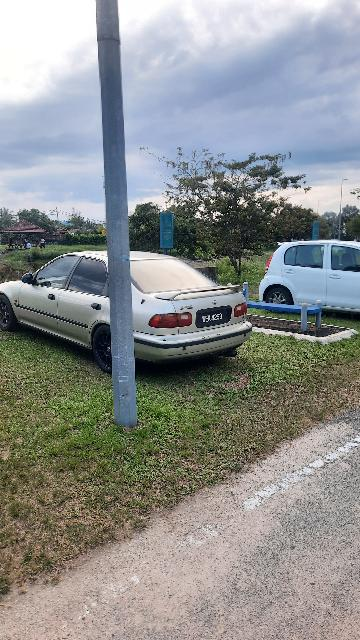License_Plate: (195, 306, 238, 328)
car: (2, 240, 255, 374)
